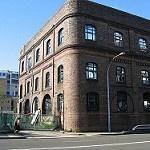building: (16, 0, 149, 132)
